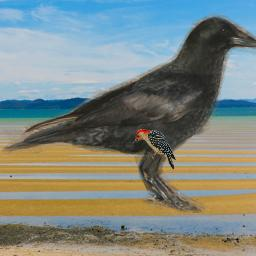Crow: (2, 14, 256, 213)
Woodpecker: (132, 129, 176, 171)
